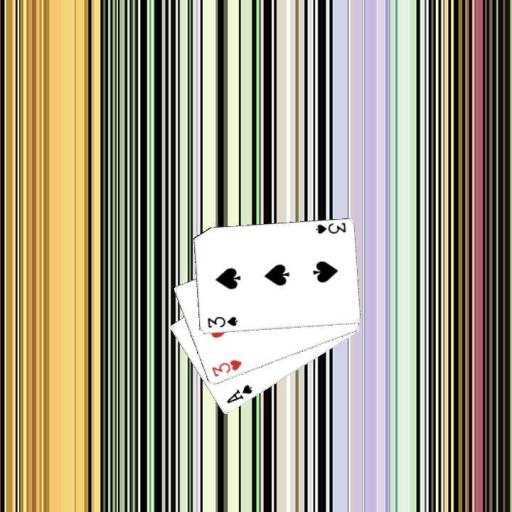3H: (209, 357, 244, 378)
3S: (204, 314, 239, 329), (312, 220, 347, 235)
AS: (223, 382, 254, 405)
